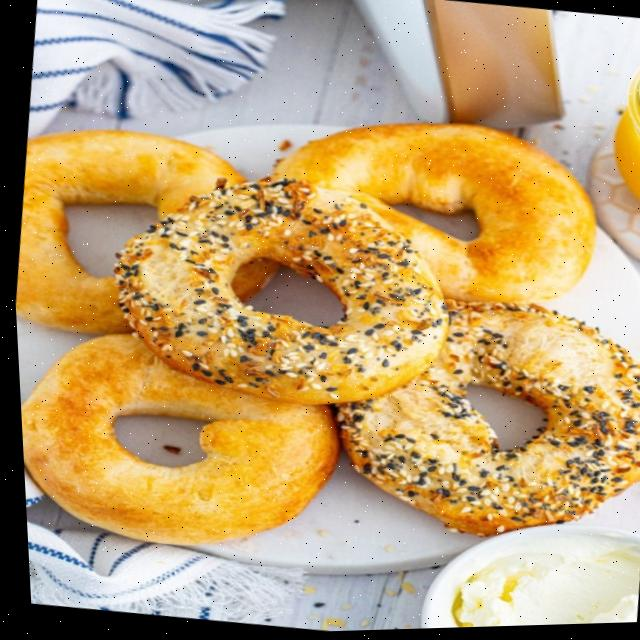Bagel: (111, 179, 444, 406), (333, 304, 640, 538), (17, 334, 334, 546), (271, 126, 593, 306), (12, 130, 243, 333)
